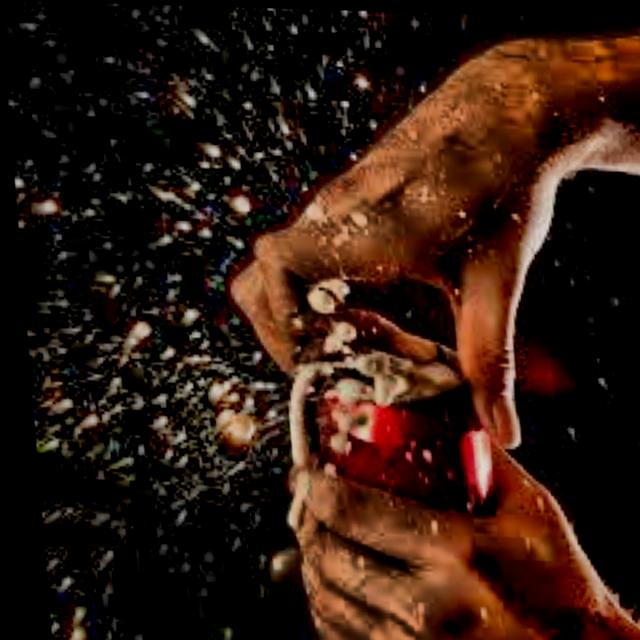can: (268, 302, 503, 538)
